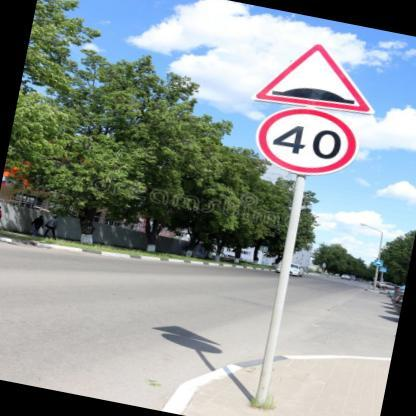road_sign: (255, 43, 373, 114), (256, 109, 357, 175)
